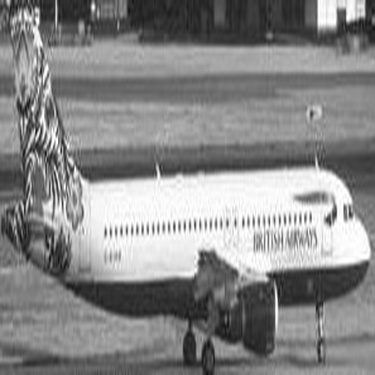airplane: (3, 5, 370, 371)
